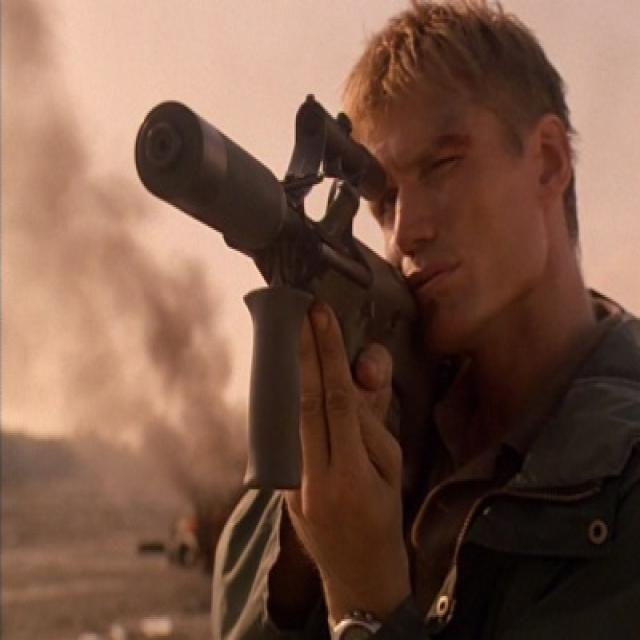rifle: (131, 74, 430, 503)
